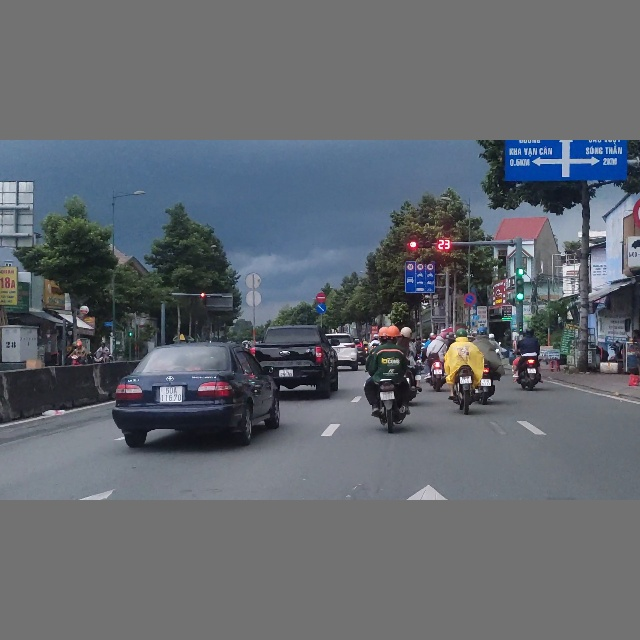P.102: (316, 293, 327, 302)
P.127*60: (407, 263, 414, 271), (416, 263, 424, 270), (427, 263, 434, 270)
P.131a: (464, 293, 477, 305)
R.302a: (316, 303, 326, 313)
R.415a: (405, 271, 435, 293)
